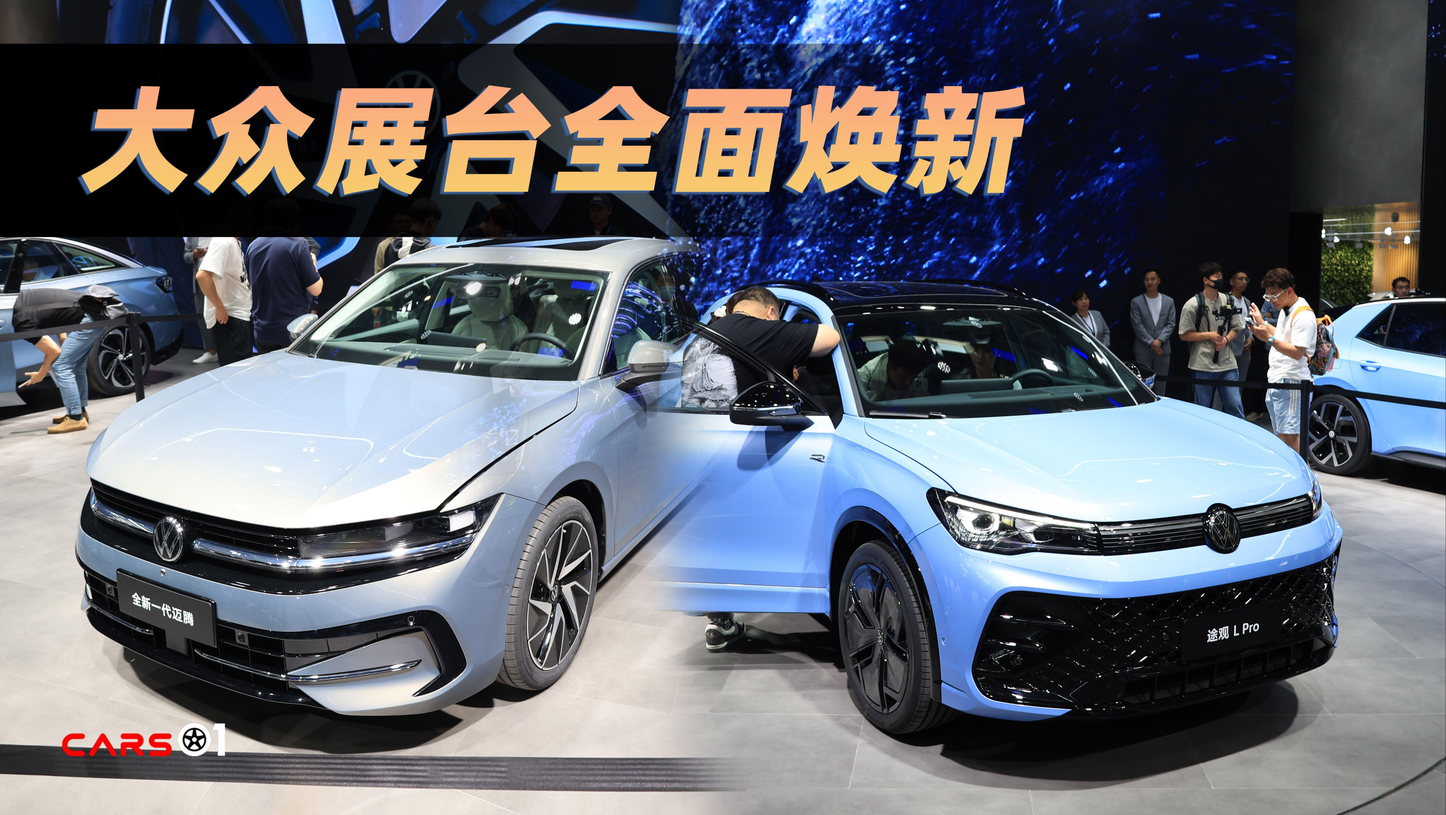other: (704, 255, 1348, 751), (52, 231, 714, 709)
